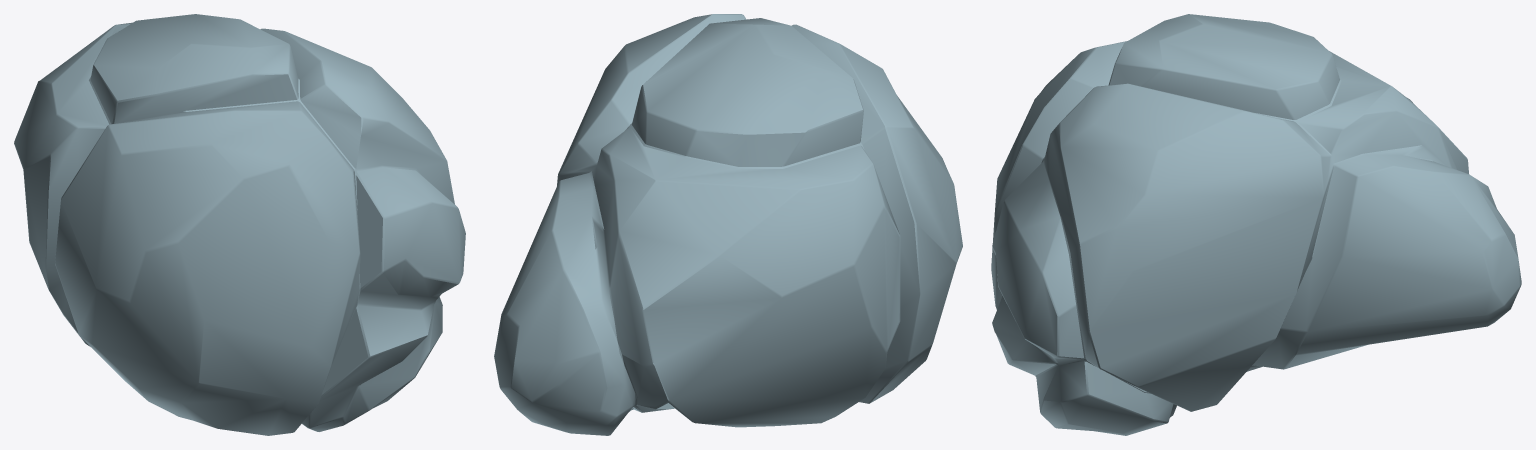
Rendered from Asteroid_05.fbx.
The picture shows the model from 3 angles, left to right: view 1: azimuth 30°, elevation 25°; view 2: azimuth 150°, elevation 25°; view 3: azimuth 270°, elevation 25°; orthographic projection. The views are drawn at different scales.
Visible parts, largest first — view 1: Asteroid_05; view 2: Asteroid_05; view 3: Asteroid_05.
Boxes of the visible parts, box(x1,y1,x2,y2) form: Asteroid_05: box(14, 14, 465, 435); Asteroid_05: box(494, 14, 962, 435); Asteroid_05: box(991, 14, 1521, 435).
Bounding box in the file's own units: 156 × 154 × 201.
Materials: 1 (1 with a texture image).
